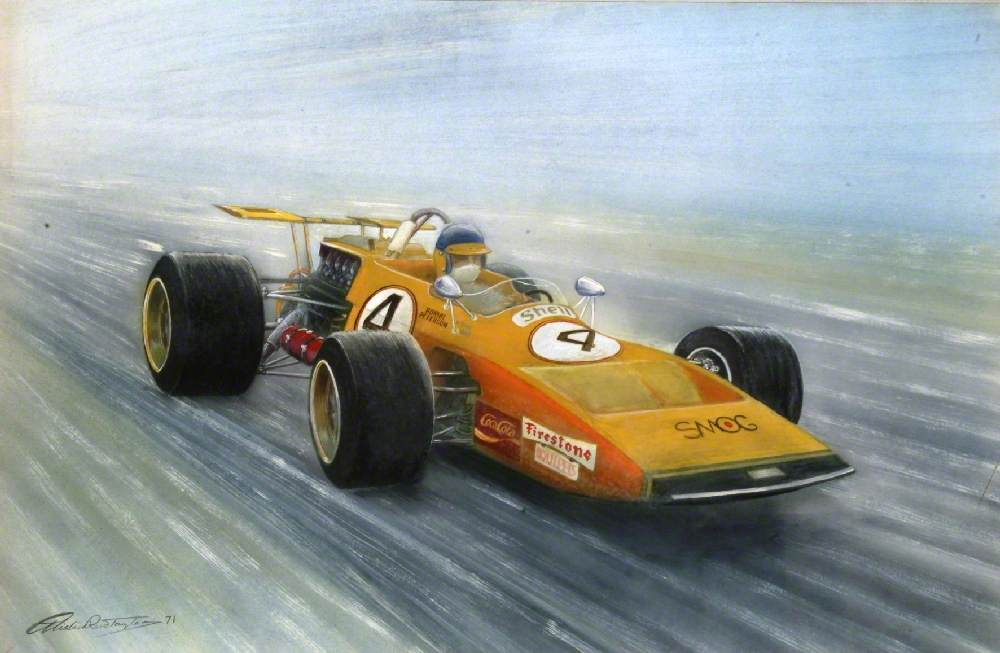f1_car: (126, 192, 881, 529)
helmet: (429, 219, 493, 288)
